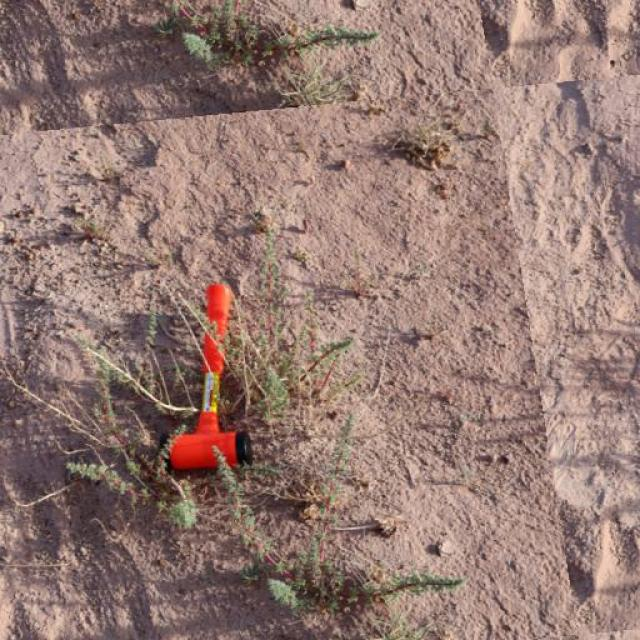mallet: (166, 281, 252, 471)
